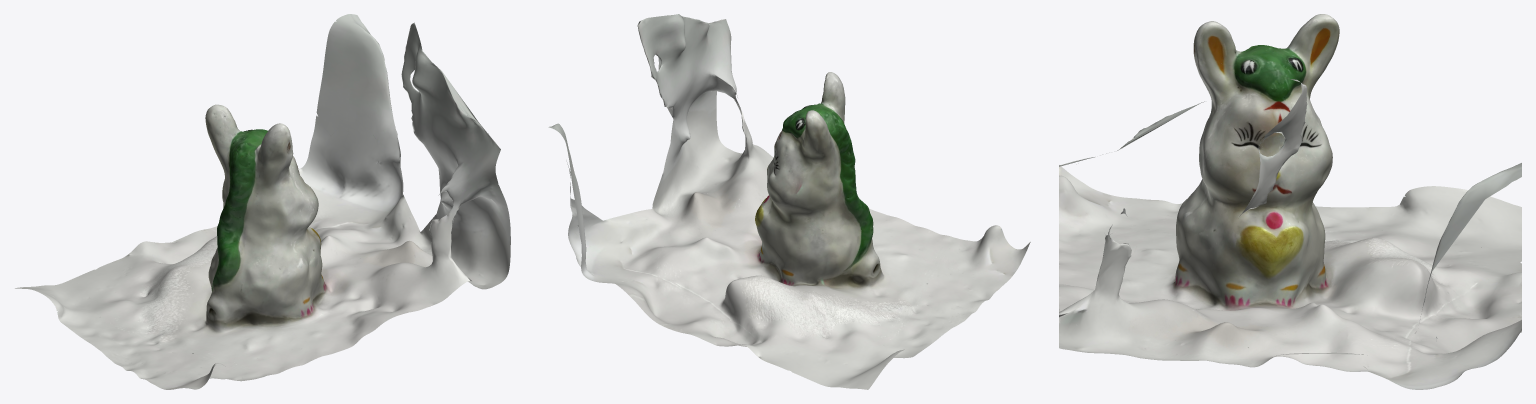
3 renders of one model, left to right at view 1: azimuth 30°, elevation 25°; view 2: azimuth 150°, elevation 25°; view 3: azimuth 270°, elevation 25°, orthographic. The views are drawn at different scales.
Bounding box in the file's own units: 1.35 × 0.9425 × 1.13.
1 material, 1 textured.
